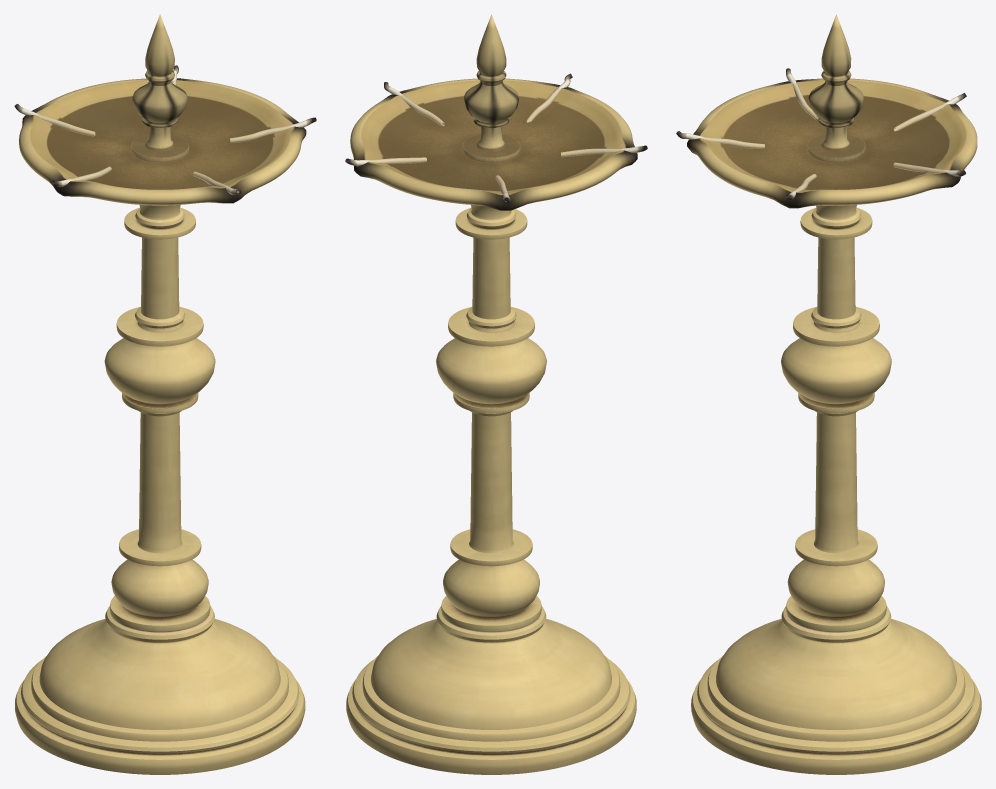
Rendered from nilavilakku.glb.
3 renders of one model, left to right at view 1: azimuth 30°, elevation 25°; view 2: azimuth 150°, elevation 25°; view 3: azimuth 270°, elevation 25°, orthographic.
Parts seen in each view (by area): view 1: Nilavilakku, Oil; view 2: Nilavilakku, Oil; view 3: Nilavilakku, Oil.
Part boxes in pixels (x1,y1,x2,y2): Nilavilakku: (15,14,306,774); Oil: (46,96,273,189); Nilavilakku: (346,14,637,774); Oil: (378,96,605,190); Nilavilakku: (687,14,981,774); Oil: (720,95,949,189).
Size of what is drawn, in the model's own units: 0.2033 by 0.518 by 0.2039.
3 materials, 1 textured.
